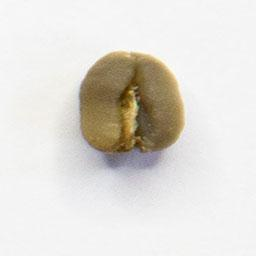peaberry: (74, 45, 189, 161)
